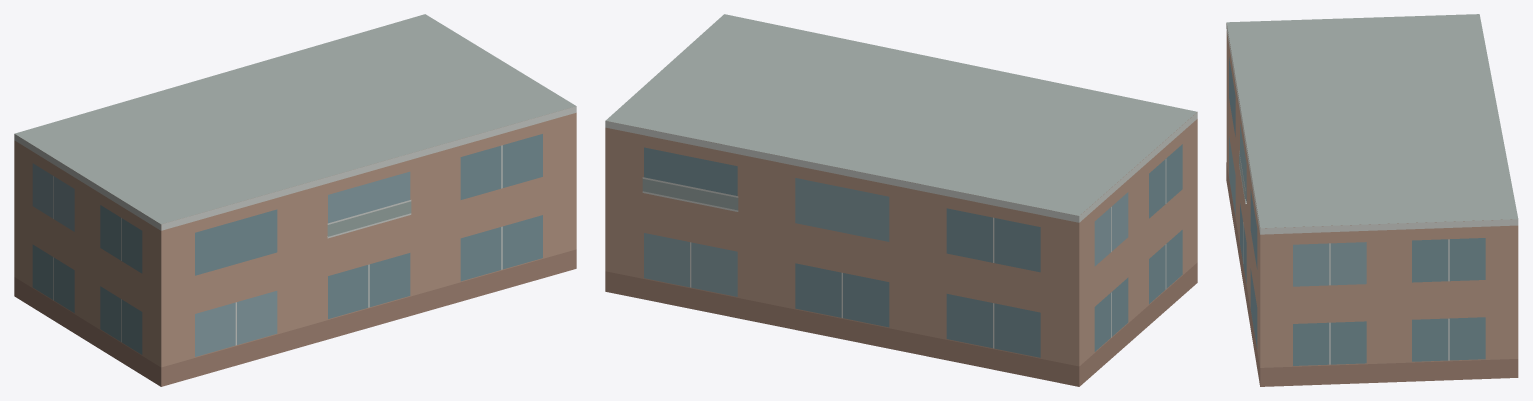
The model's file is survey-upis-33025172.glb.
The picture shows the model from 3 angles, left to right: view 1: azimuth 30°, elevation 25°; view 2: azimuth 150°, elevation 25°; view 3: azimuth 270°, elevation 25°; orthographic projection. The views are drawn at different scales.
Parts seen in each view (by area): view 1: survey-upis-33025172.tmp; view 2: survey-upis-33025172.tmp; view 3: survey-upis-33025172.tmp.
Part boxes in pixels (bbox=[...]): survey-upis-33025172.tmp: bbox=[14, 14, 576, 386]; survey-upis-33025172.tmp: bbox=[605, 14, 1197, 386]; survey-upis-33025172.tmp: bbox=[1226, 14, 1518, 386].
Size of the model in its own units: 17.69 by 6.1 by 10.18.
